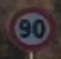limite 90: (7, 6, 55, 51)
